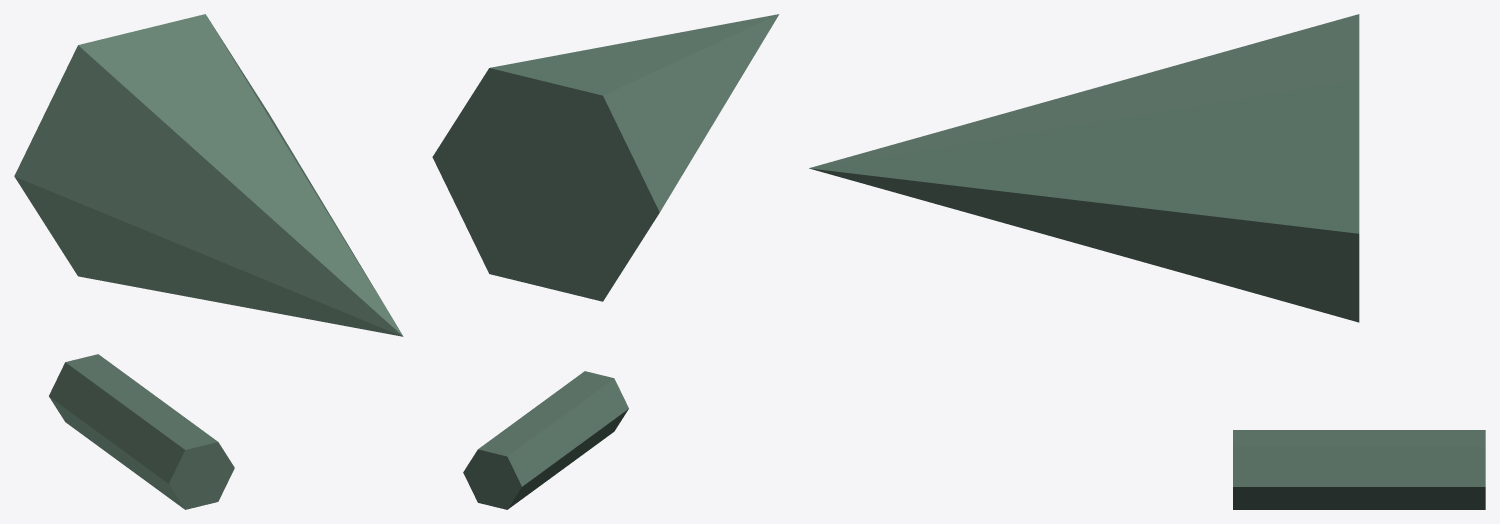
File: crystal_tree.glb
The picture shows the model from 3 angles, left to right: view 1: azimuth 30°, elevation 25°; view 2: azimuth 150°, elevation 25°; view 3: azimuth 270°, elevation 25°; orthographic projection. The views are drawn at different scales.
Visible parts, largest first — view 1: part_1, part_0; view 2: part_1, part_0; view 3: part_1, part_0.
Boxes of the visible parts, x1,y1,x2,y2 form: part_1: (14, 14, 403, 336); part_0: (49, 354, 234, 509); part_1: (432, 14, 779, 301); part_0: (463, 371, 628, 509); part_1: (809, 14, 1359, 322); part_0: (1233, 430, 1485, 509).
Bounding box in the file's own units: 2.7 × 4.37 × 5.9.
